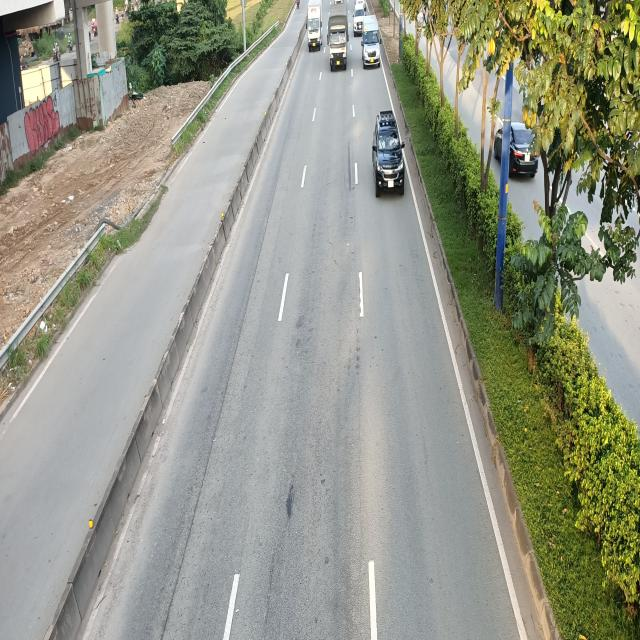car: (373, 110, 406, 192)
truck: (328, 6, 349, 72), (306, 0, 322, 50)
van: (361, 13, 381, 66)
